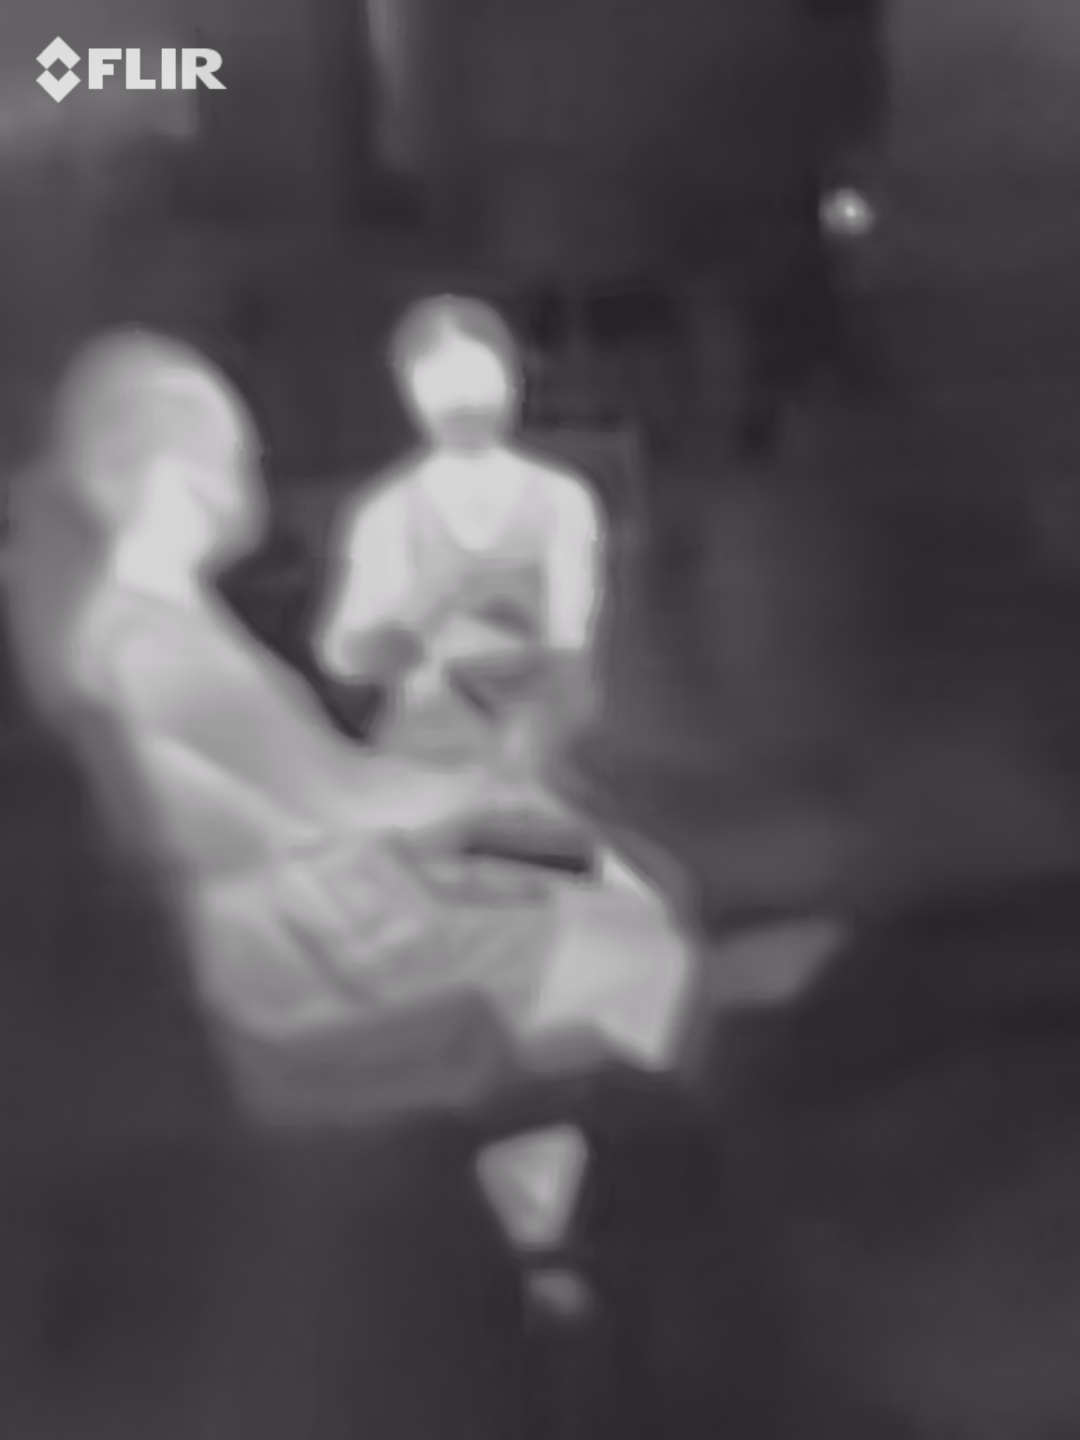head: (379, 295, 533, 468)
